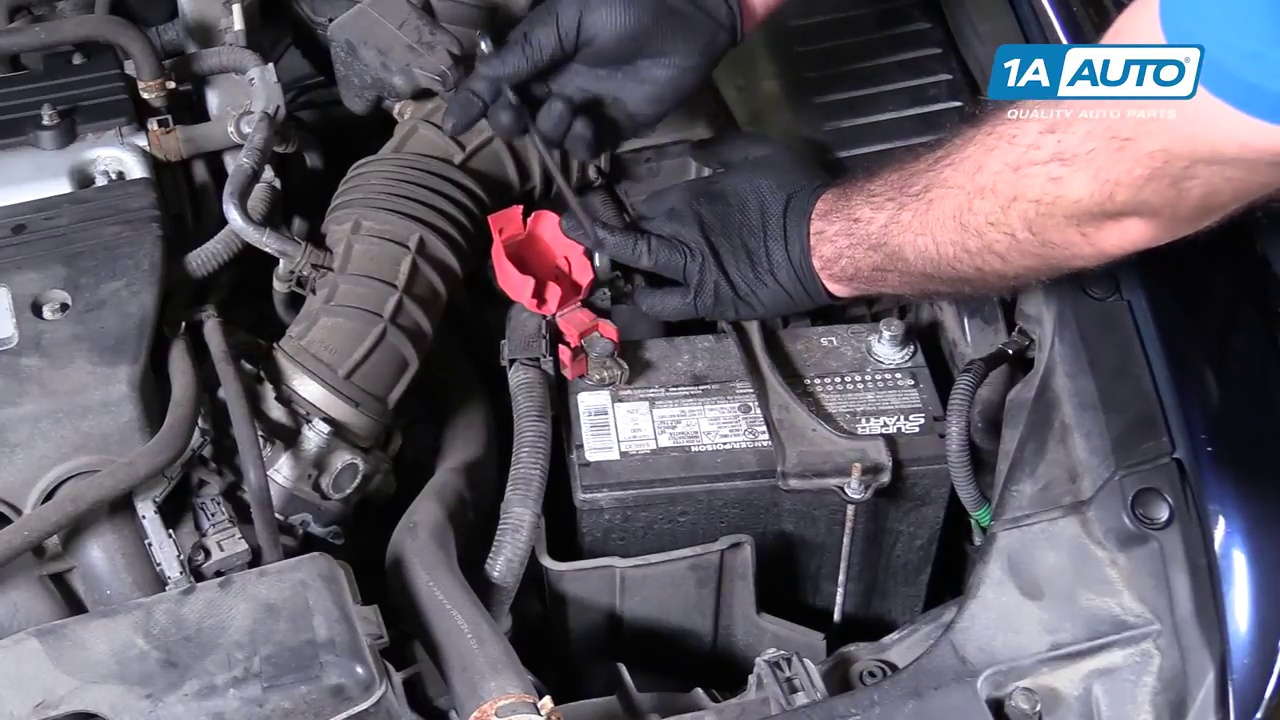battery: (550, 316, 940, 476)
neg_disconnected: (853, 302, 935, 387)
pos_connected: (508, 233, 650, 391)
pos_touched: (499, 102, 662, 395)
